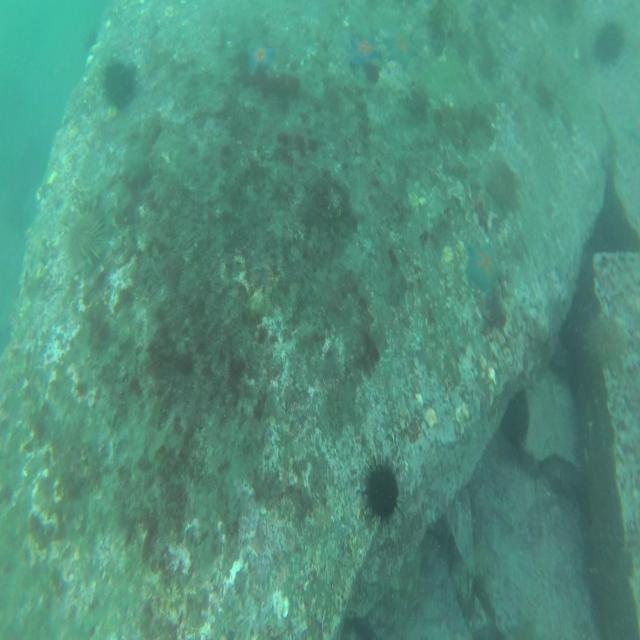echinus: (364, 450, 402, 530), (56, 204, 100, 265), (585, 312, 631, 370), (104, 59, 136, 108), (492, 155, 516, 215), (597, 16, 623, 62)
starfish: (465, 229, 498, 290), (347, 26, 380, 70), (388, 21, 418, 67), (246, 37, 276, 74)
